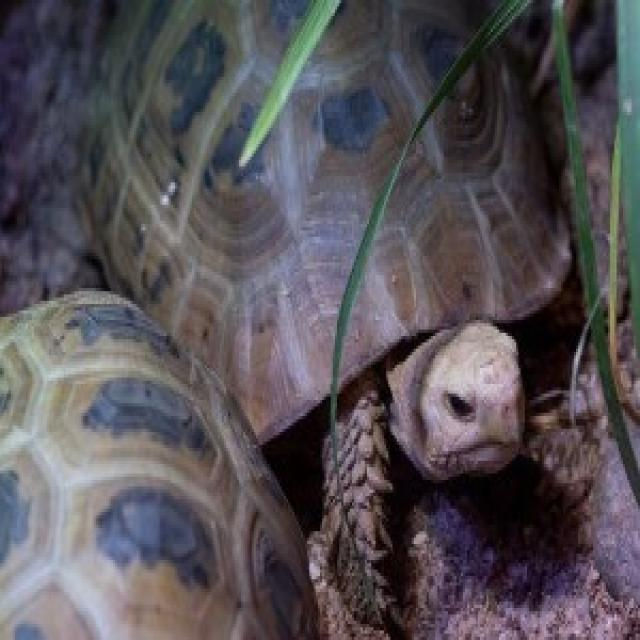Sea turtle: (45, 0, 602, 589)
